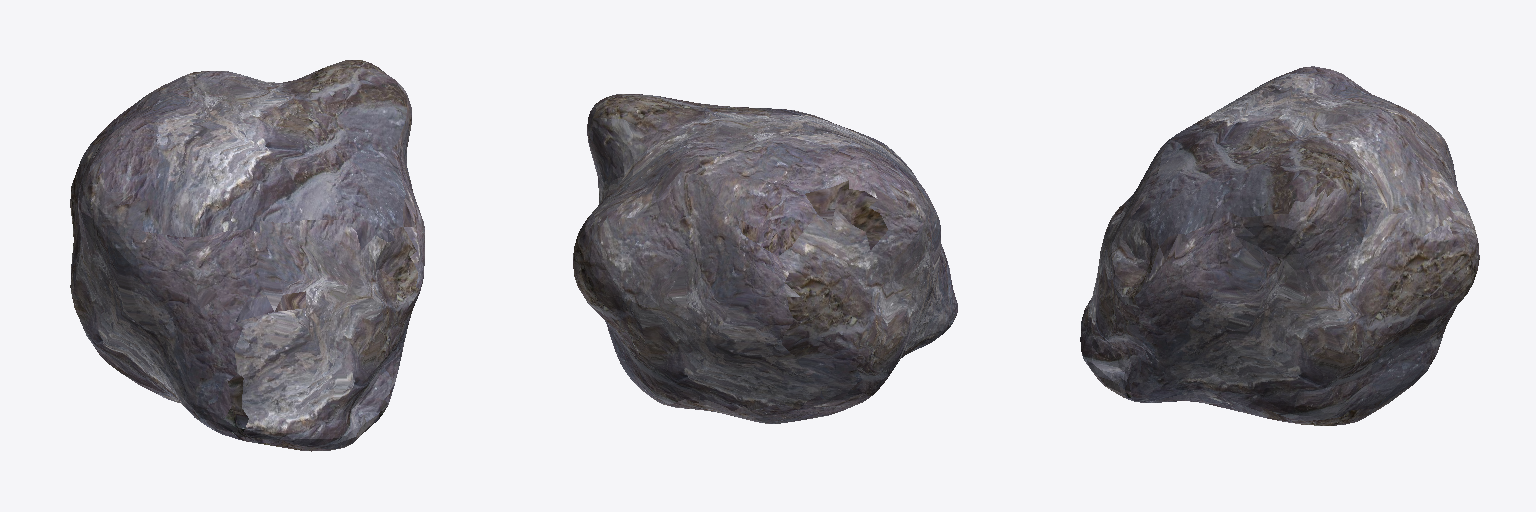
3 renders of one model, left to right at view 1: azimuth 30°, elevation 25°; view 2: azimuth 150°, elevation 25°; view 3: azimuth 270°, elevation 25°, orthographic.
Parts seen in each view (by area): view 1: Icosphere; view 2: Icosphere; view 3: Icosphere.
Boxes of the visible parts, x1,y1,x2,y2 form: Icosphere: [70, 60, 424, 451]; Icosphere: [573, 94, 957, 423]; Icosphere: [1080, 66, 1479, 425].
Bounding box in the file's own units: 2.22 × 1.91 × 2.37.
1 materials, 1 textured.